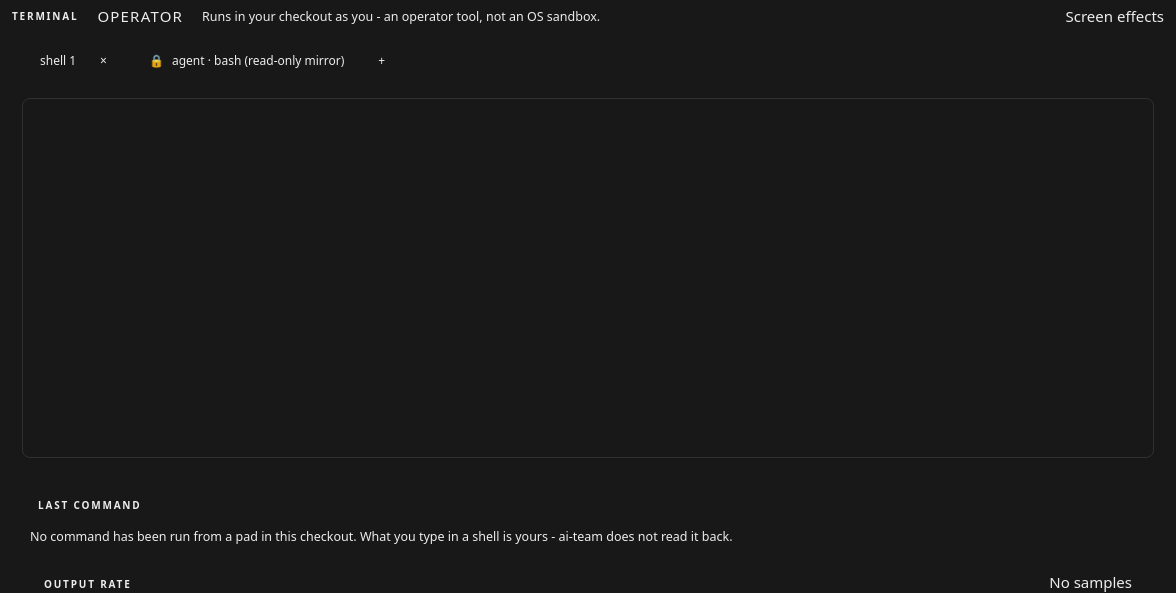
Test: says when output fell out of the scrollback instead of showing a seam
The width and height of the screenshot is (1176, 593).
What coordinates should you click on to do the following:
click the tab "shell 1"
I would click on:
 (51, 60)
Its box is [12,44,90,76].
(page scrolled)
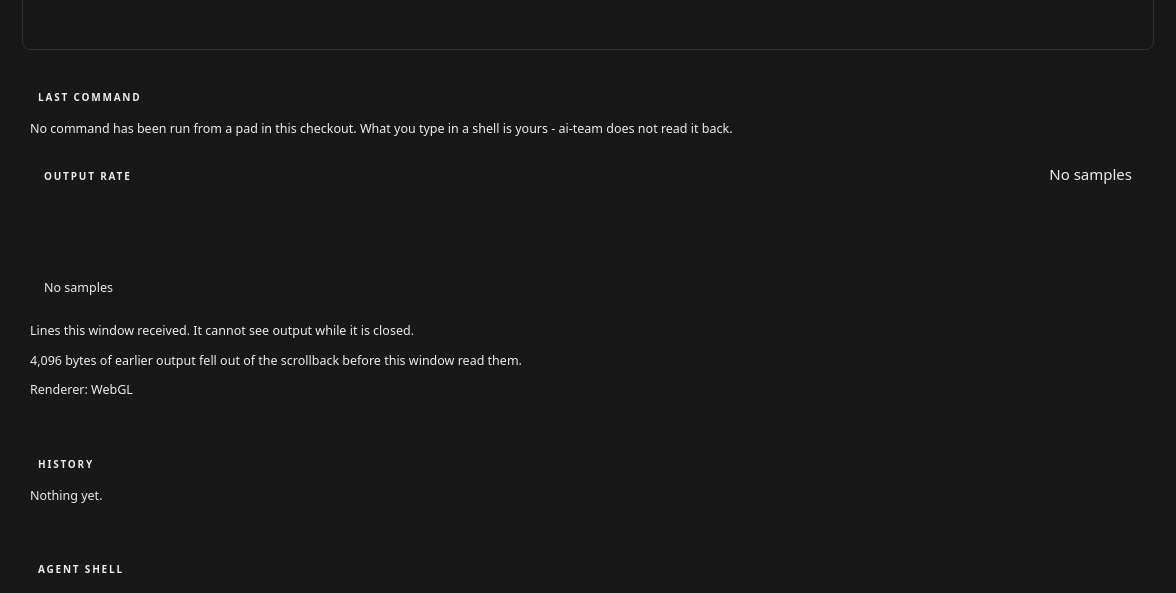
Expected: the text "fell out of the scrollback" shows "4,096 bytes", [30,352,522,368]
